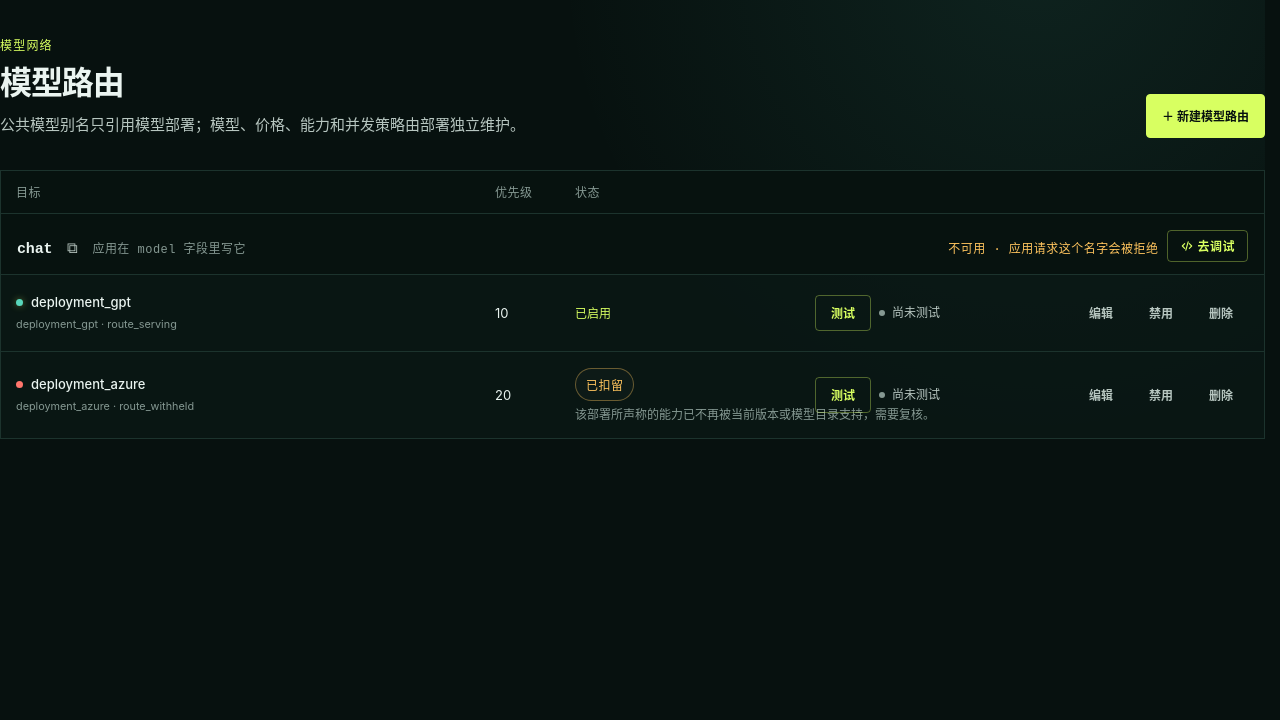
it: RoutesPage › does not count a withheld sibling as one that keeps serving
Click the button "禁用" in the row of "route_serving" at (1161, 313), box left=1133, top=291, right=1189, bottom=335
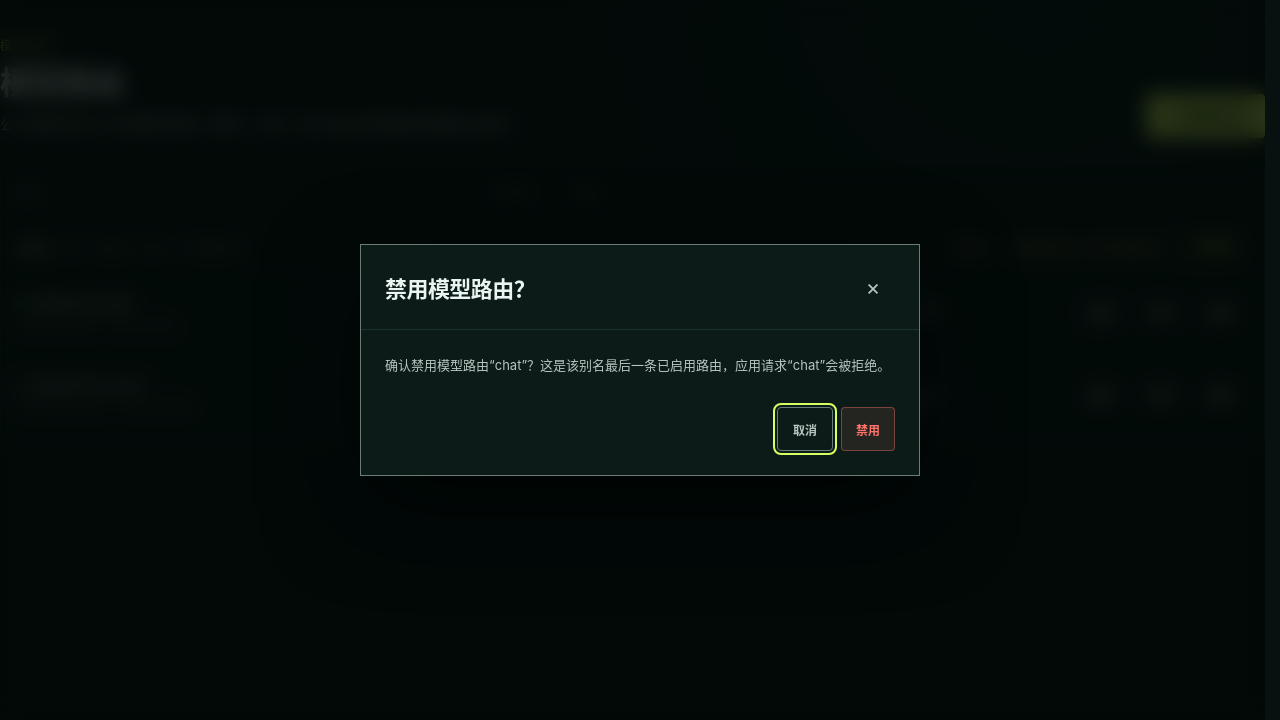
Expected: the text "确认禁用模型路由“chat”？这是该别名最后一条已启用路由，应用请求“chat”会被拒绝。" is shown, left=385, top=354, right=895, bottom=376
